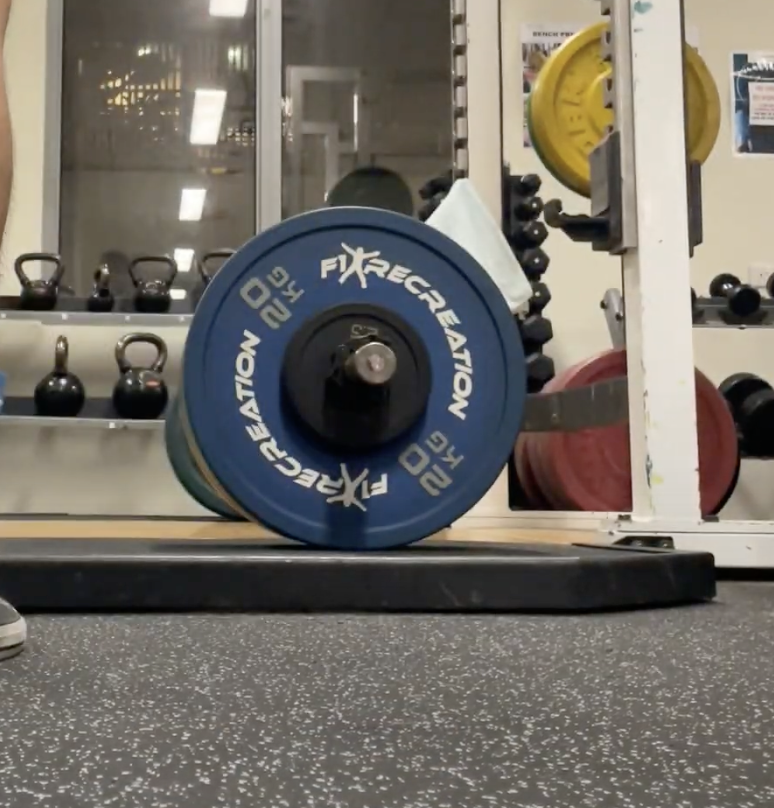barbell: (357, 342, 397, 385)
